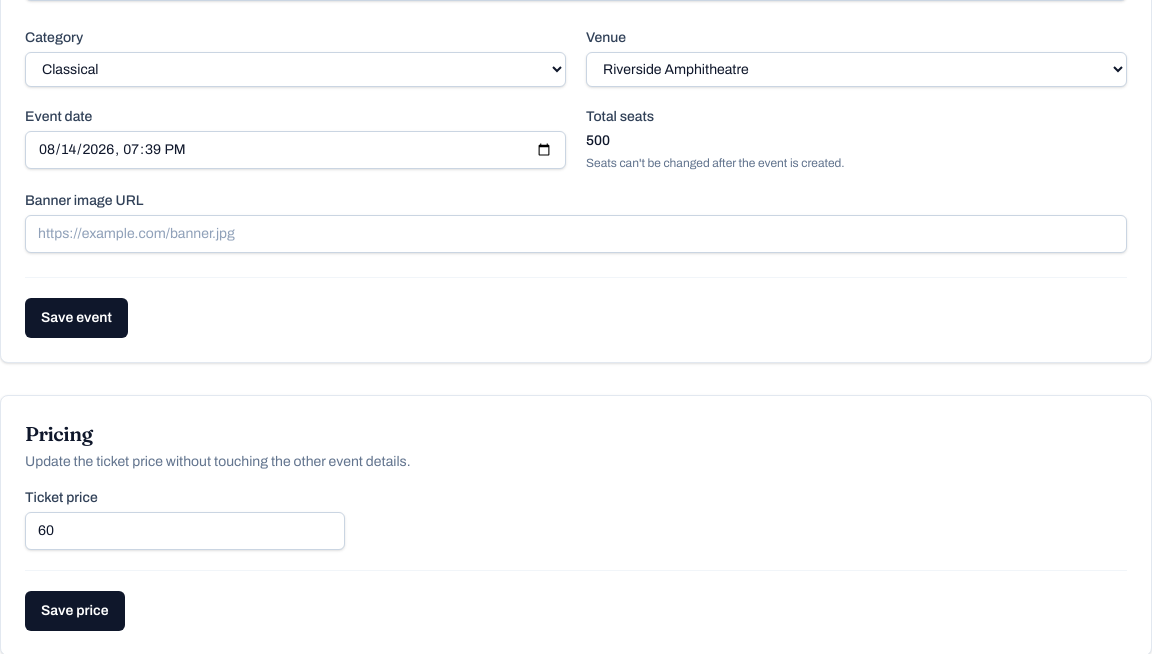
EventForm › edit mode saves the price through the separate pricing endpoint
The image size is (1152, 654).
(page scrolled)
Click the button "Save price" at x=75, y=611, box [25,591,125,631]
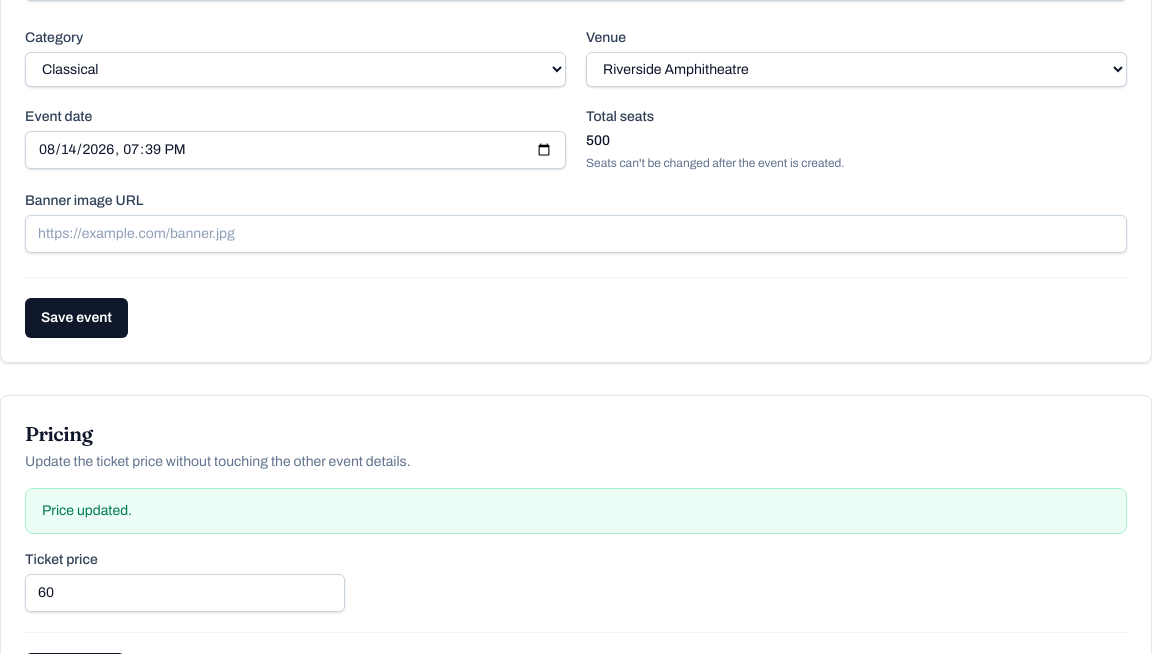
Now the text "Price updated." is shown, box [25,488,1127,534]
